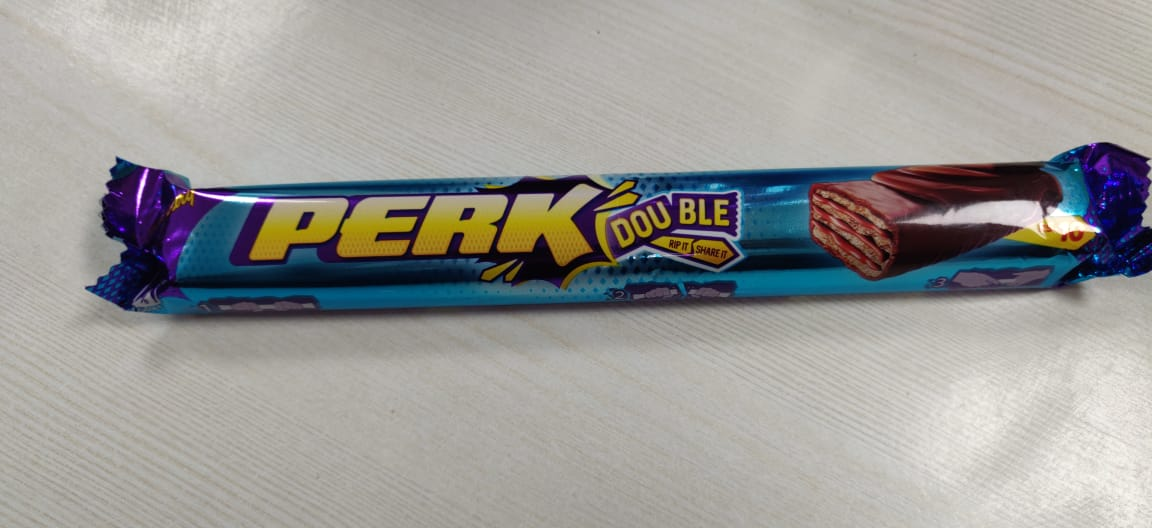perk: (89, 140, 1152, 329)
